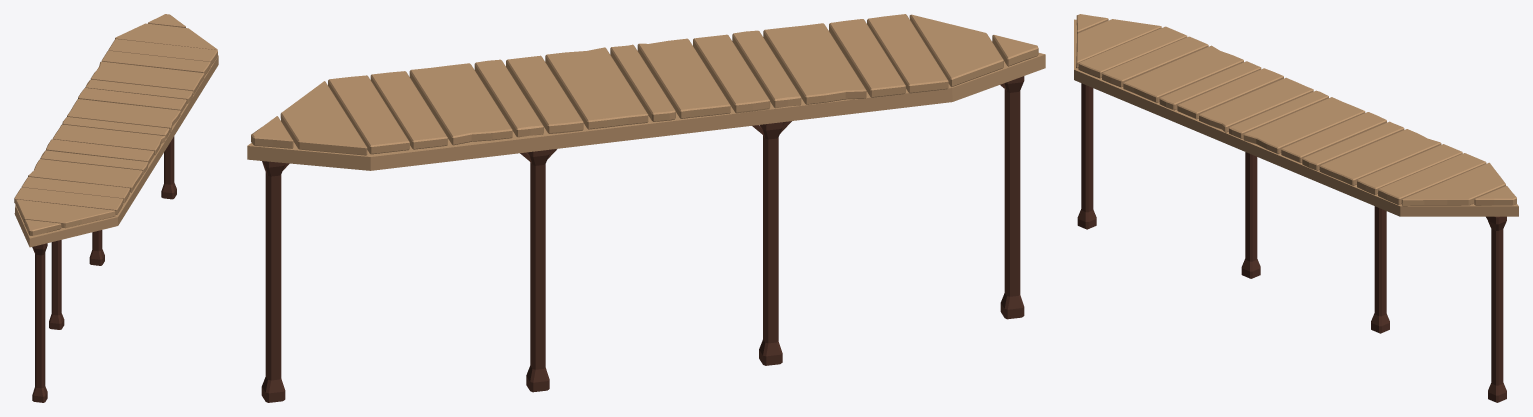
File: balcony-d.glb
3 renders of one model, left to right at view 1: azimuth 30°, elevation 25°; view 2: azimuth 150°, elevation 25°; view 3: azimuth 270°, elevation 25°, orthographic. The views are drawn at different scales.
Visible parts, largest first — view 1: Balcony D (×2); view 2: Balcony D (×2); view 3: Balcony D (×2).
Part boxes in pixels (box(x1,y1,x2,y2)): Balcony D (×2): box(14, 14, 218, 402); Balcony D (×2): box(247, 14, 1045, 402); Balcony D (×2): box(1074, 14, 1518, 402).
Size of the model in its own units: 4.29 by 2.19 by 4.32.
